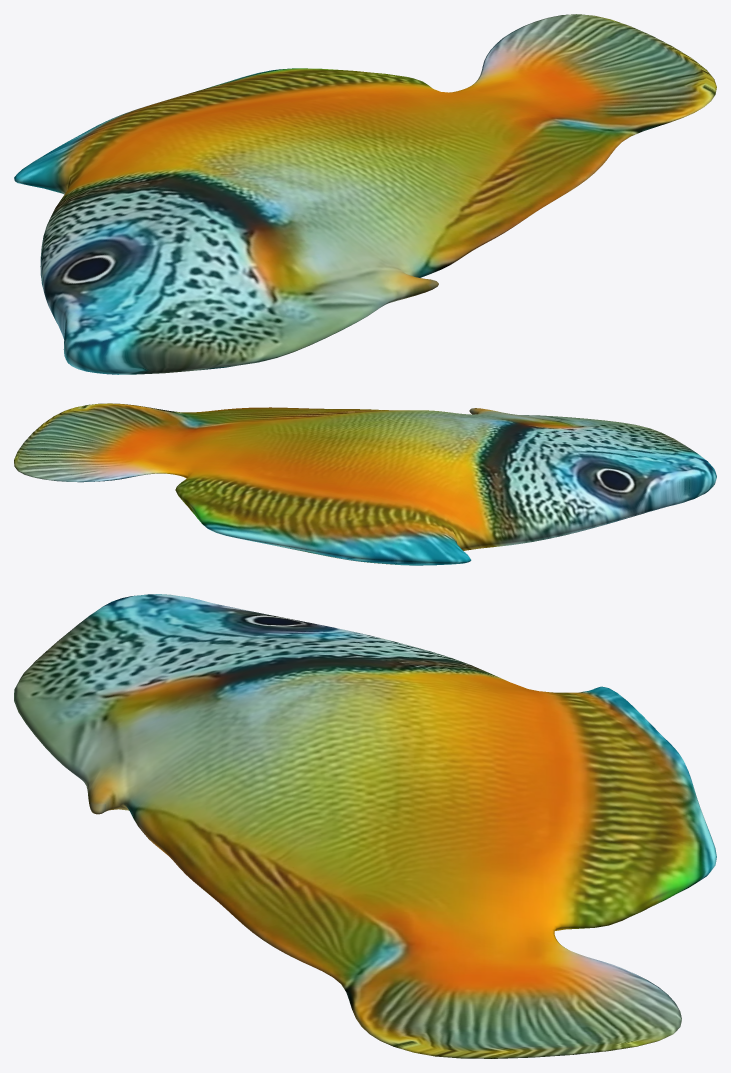
The model's file is fish2.glb.
The picture shows the model from 3 angles, top to bottom: view 1: azimuth 30°, elevation 25°; view 2: azimuth 150°, elevation 25°; view 3: azimuth 270°, elevation 25°; orthographic projection. The views are drawn at different scales.
Parts seen in each view (by area): view 1: fish1.001_0; view 2: fish1.001_0; view 3: fish1.001_0.
Boxes of the visible parts, left/top/right/bottom form: fish1.001_0: left=14, top=14, right=716, bottom=374; fish1.001_0: left=14, top=403, right=716, bottom=565; fish1.001_0: left=14, top=594, right=716, bottom=1058.
Bounding box in the file's own units: 3.91 × 0.592 × 2.58.
Materials: 1 (1 with a texture image).
